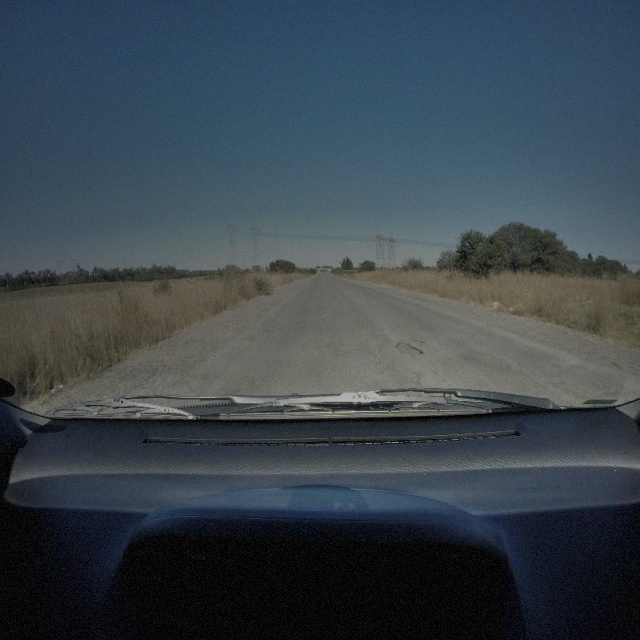pothole: (393, 338, 422, 356)
